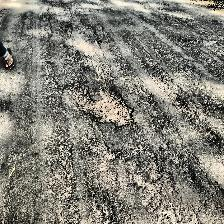pothole: (72, 87, 136, 127)
